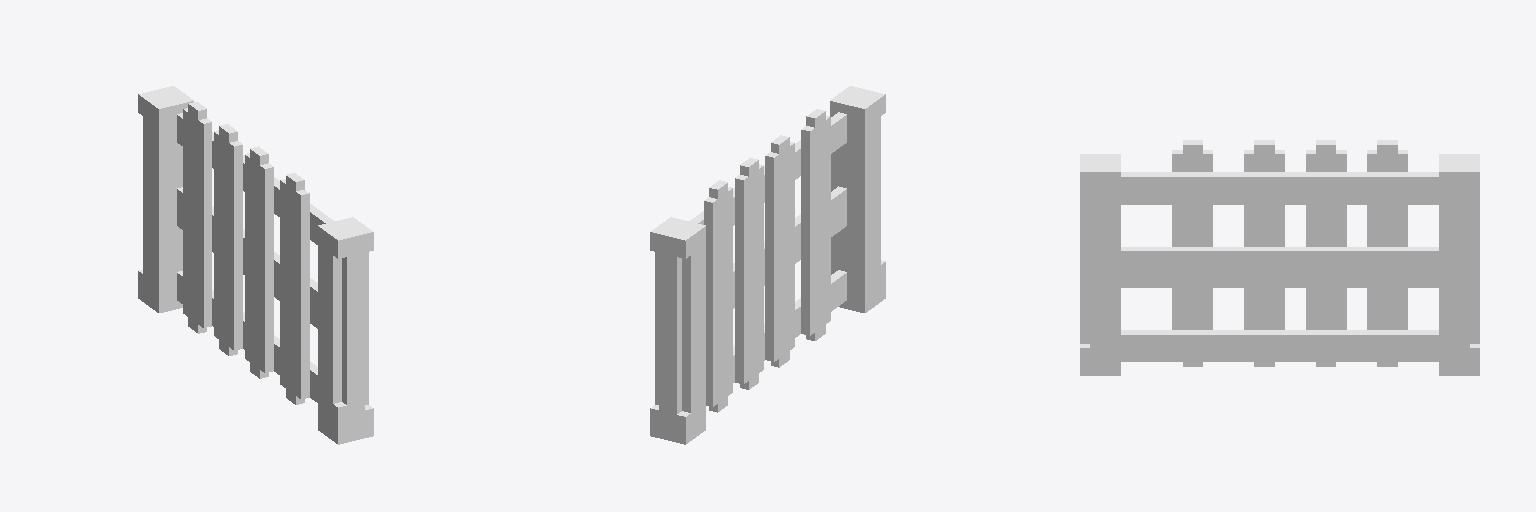
The model's file is Robot_vox-1-6.obj.
3 renders of one model, left to right at view 1: azimuth 30°, elevation 25°; view 2: azimuth 150°, elevation 25°; view 3: azimuth 270°, elevation 25°, orthographic.
Visible parts, largest first — view 1: object 1; view 2: object 1; view 3: object 1.
Boxes of the visible parts, x1=… form: object 1: x1=138, y1=86, x2=373, y2=444; object 1: x1=650, y1=86, x2=885, y2=444; object 1: x1=1080, y1=140, x2=1479, y2=375.
Bounding box in the file's own units: 0.4 × 2.4 × 3.9.